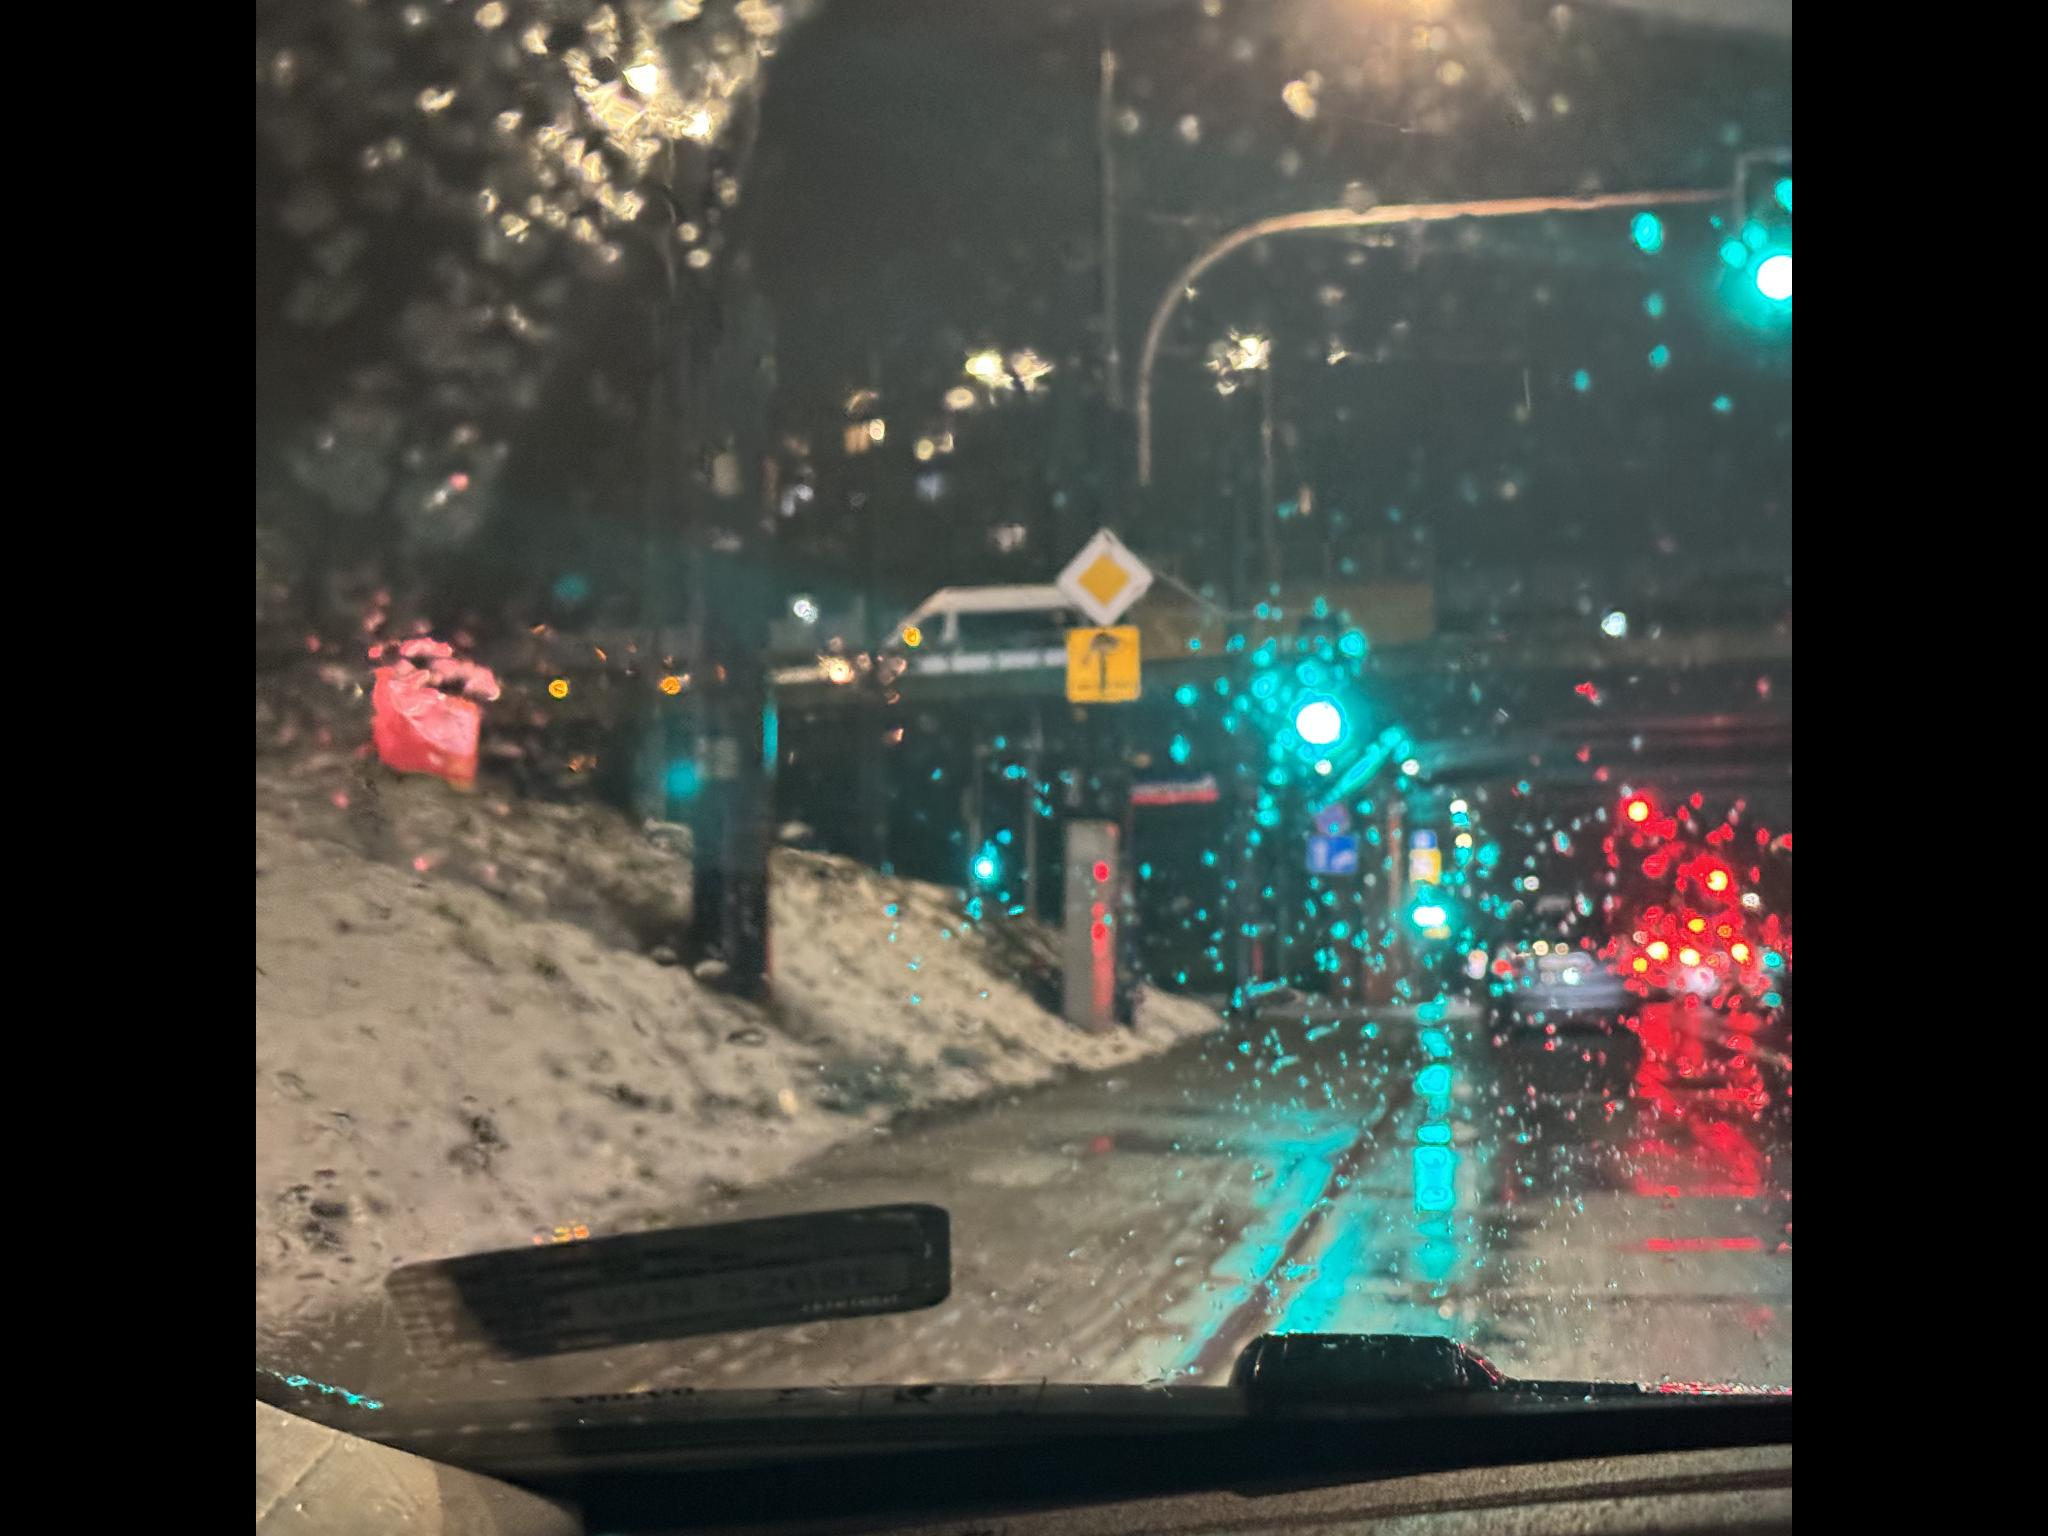information: (1037, 382, 1137, 479)
other: (1134, 394, 1216, 471)
